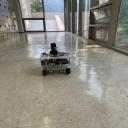cart: (40, 52, 71, 76)
